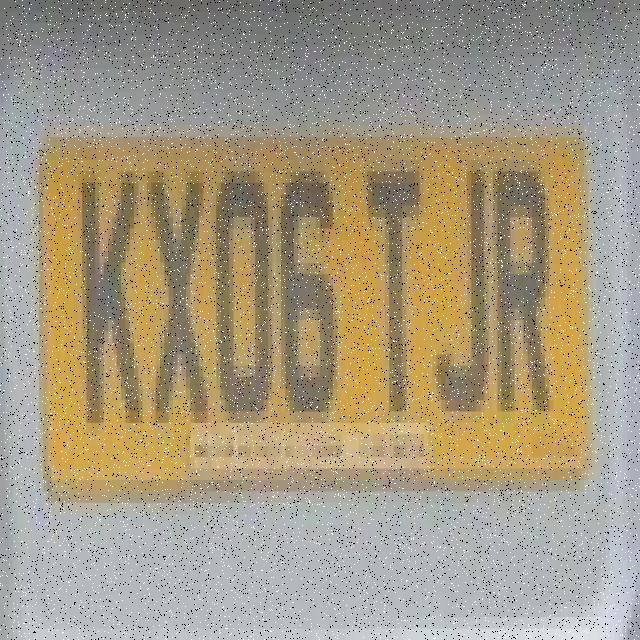licenseplate: (31, 60, 615, 561)
